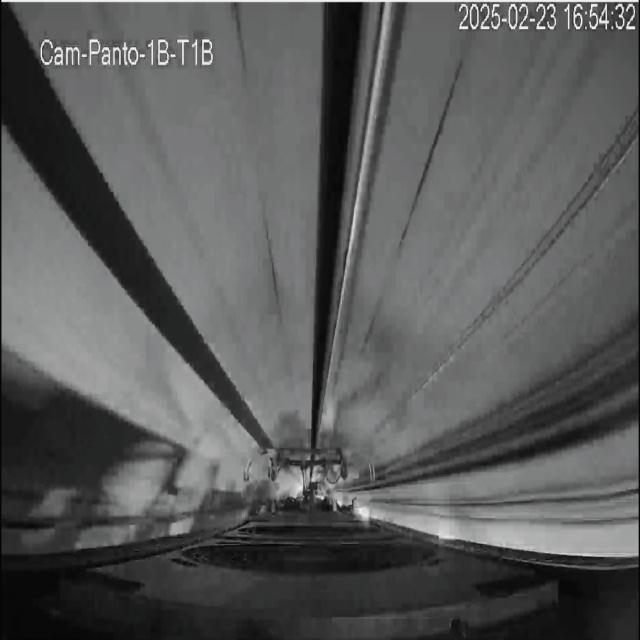Camera Stamp: (36, 28, 222, 70)
Date Stamp: (459, 3, 637, 33)
No - Spark: (318, 289, 440, 457), (148, 430, 253, 541), (250, 408, 332, 516)
